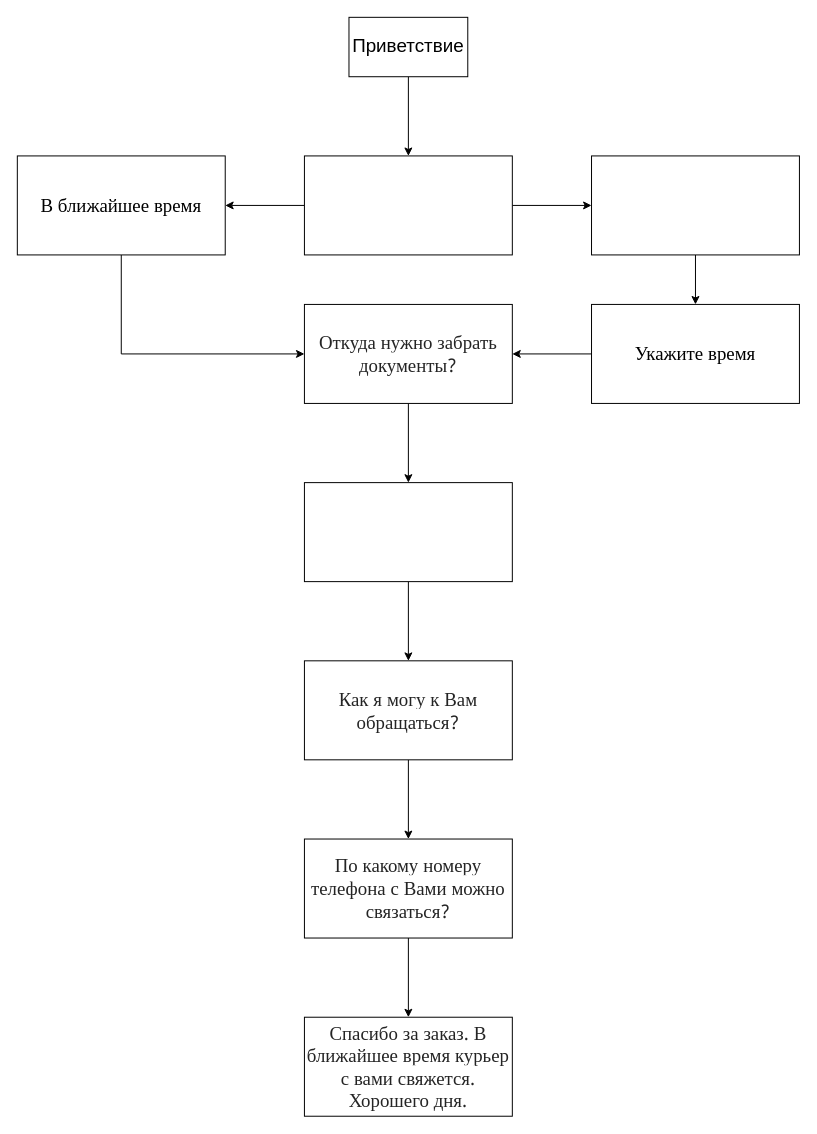
This 817x1134 diagram has some shape labels left out. The shapes that lost their labels are listed below. From the top down, each one's centre as x and y in pixels, then its label:
At (x=407, y=205): "Когда необходимо доставить документы?".
At (x=695, y=205): "В определенное время.".
At (x=407, y=532): "Куда необходимо доставить документы?".
